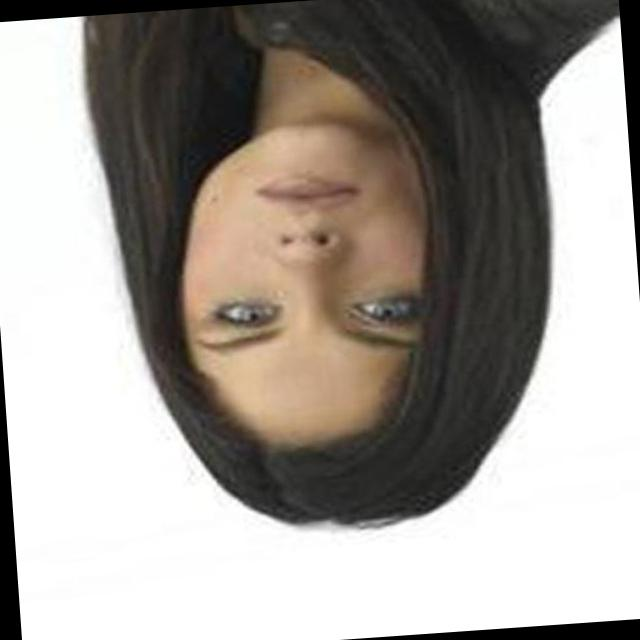bareface: (170, 96, 564, 538)
